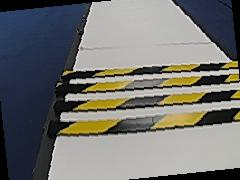bump: (52, 57, 240, 135)
